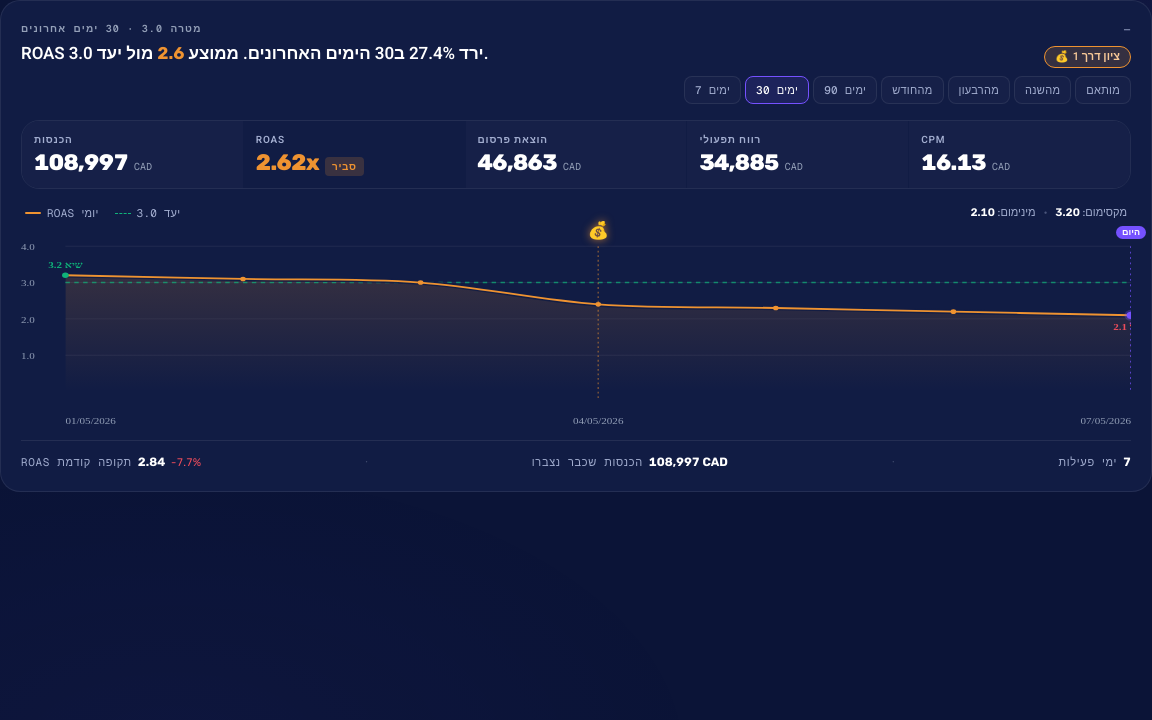
<RoasTargetChart> › the custom-range toggle reveals the from/to date inputs
The width and height of the screenshot is (1152, 720).
Step 1. Click the button with test id "chart-range-custom-toggle" → (1103, 90), box [1075, 76, 1131, 104]
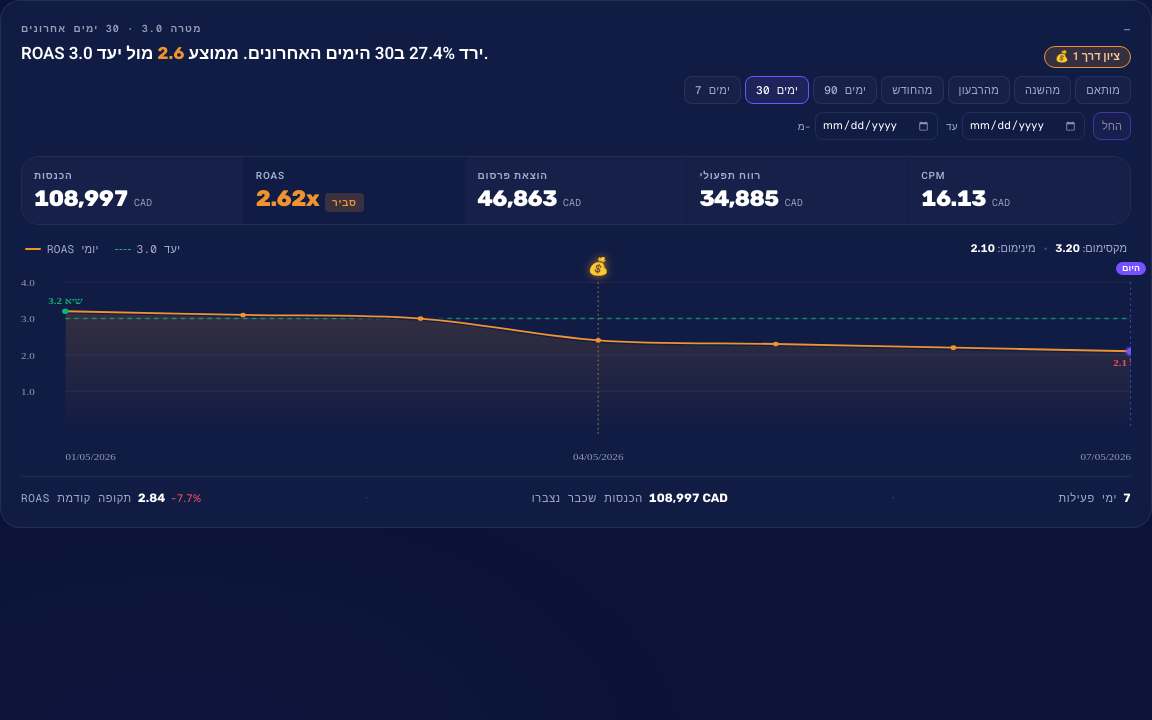
expect the element with test id "chart-range-custom-panel" is shown: met, box [798, 112, 1131, 140]
expect the date field with test id "chart-range-from-input" is shown: met, box [815, 112, 938, 140]
expect the date field with test id "chart-range-to-input" is shown: met, box [962, 112, 1085, 140]
